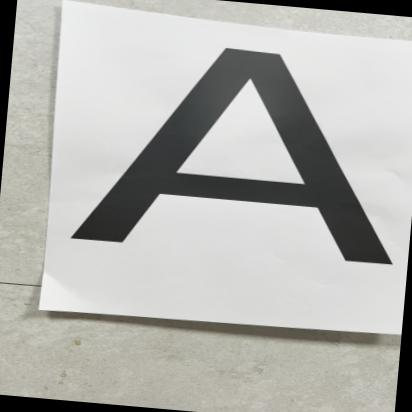seat: (35, 15, 412, 315)
